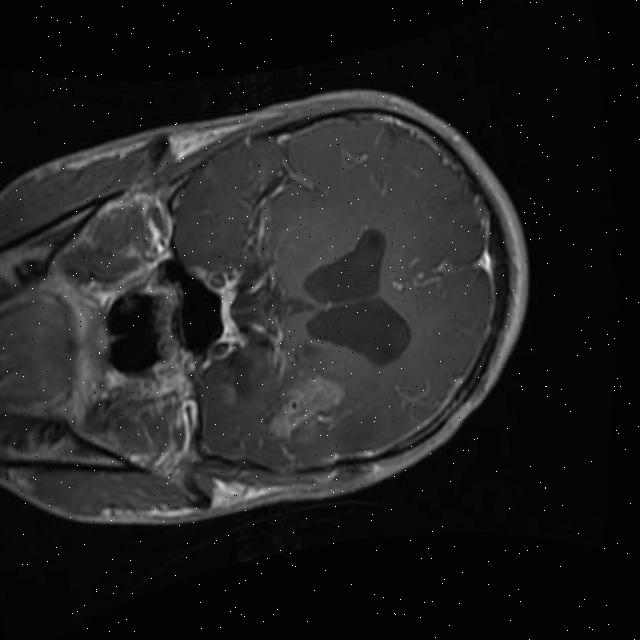Glioma: (255, 366, 355, 443)
